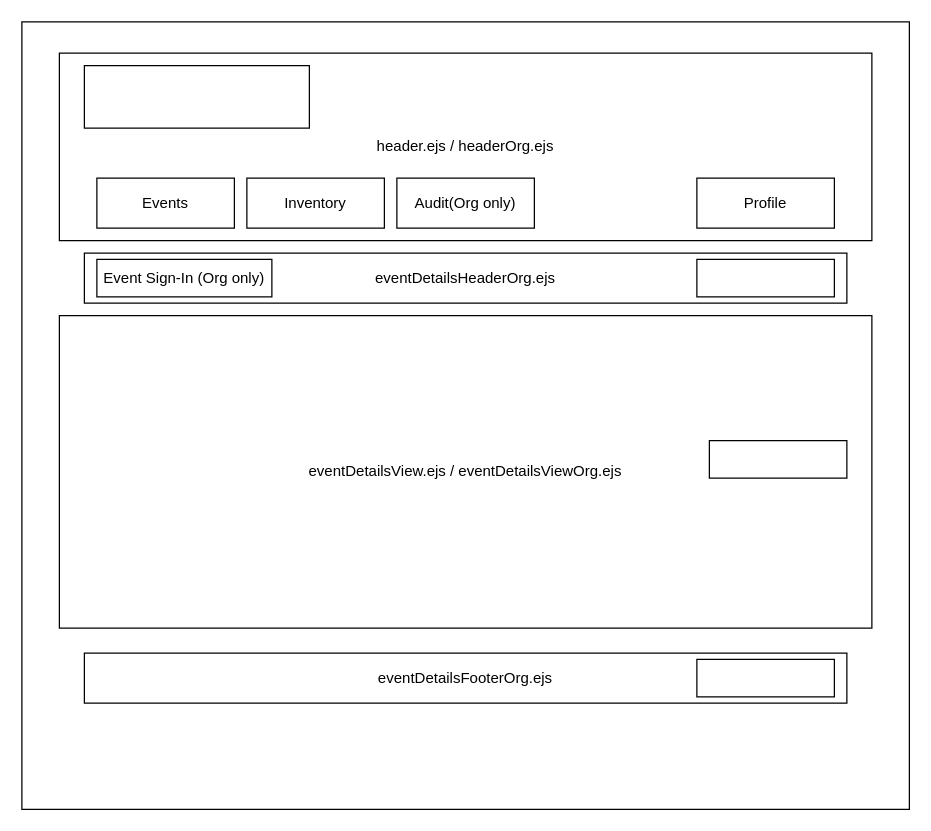
This 931x831 diagram has some shape labels left out. Here are the shapes that lost their labels. From the top down, the box of each, then its label:
(83, 64, 309, 128): AAP logo
(696, 258, 834, 297): Edit Event (Org only)
(708, 439, 847, 478): RSVP (non-Org only)
(696, 658, 834, 697): Delete Event (Org only)
